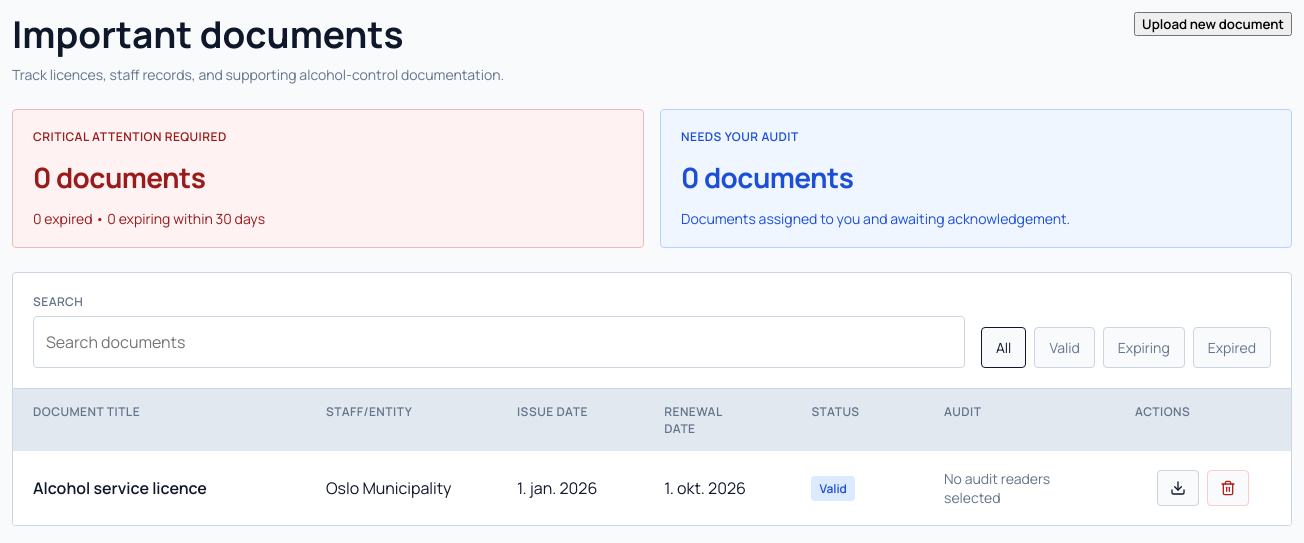
Test: DocumentsPage › deletes a document after confirmation
Click the button with class "document-action-button-delete". click: (1228, 488)
box: left=1207, top=470, right=1249, bottom=506
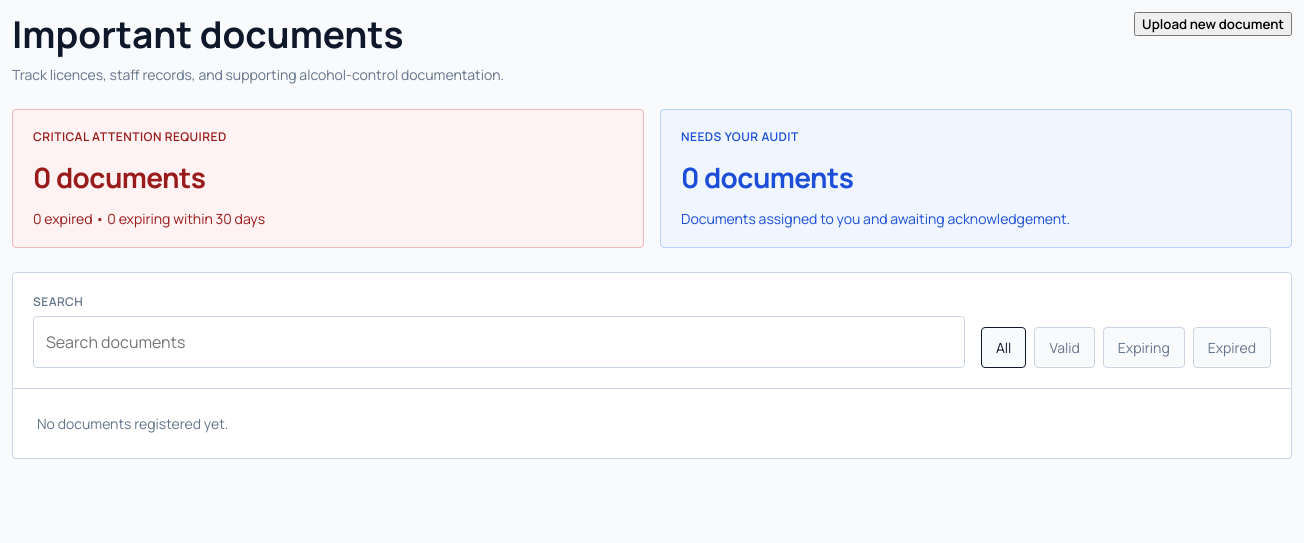
Expected: the text "Alcohol service licence" is gone
